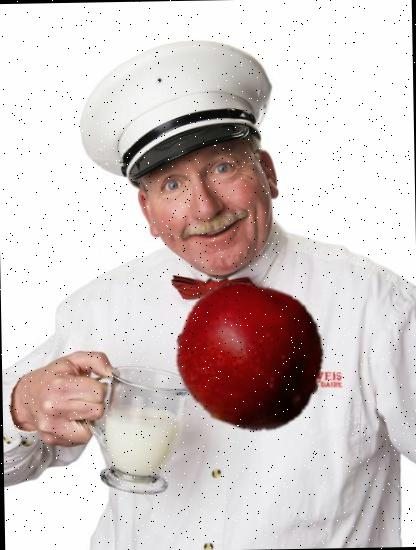Nectarine: (174, 280, 326, 432)
